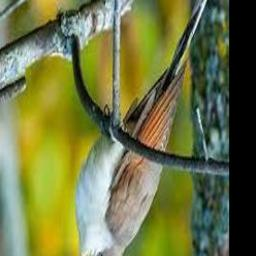Cuckoo: (73, 0, 220, 256)
